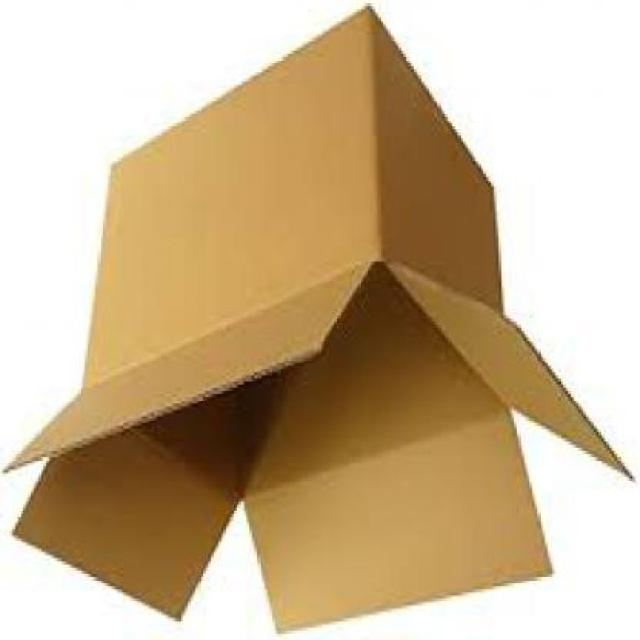CARDBOARD: (0, 8, 631, 637)
